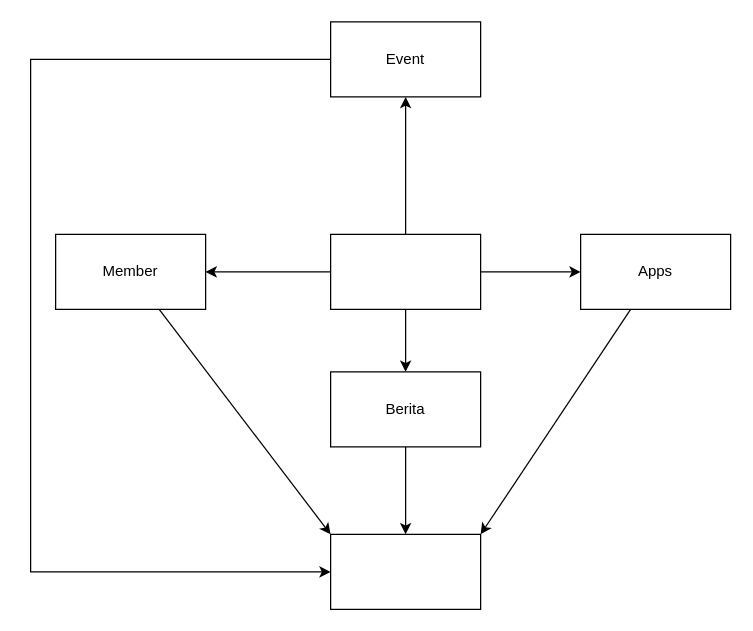
Image size: 753x631. Some labels were removed from this diagram. Here are the shapes that lost their labels. From the top down, the centre of each, then its label:
[405,271]: Users
[405,571]: Category
